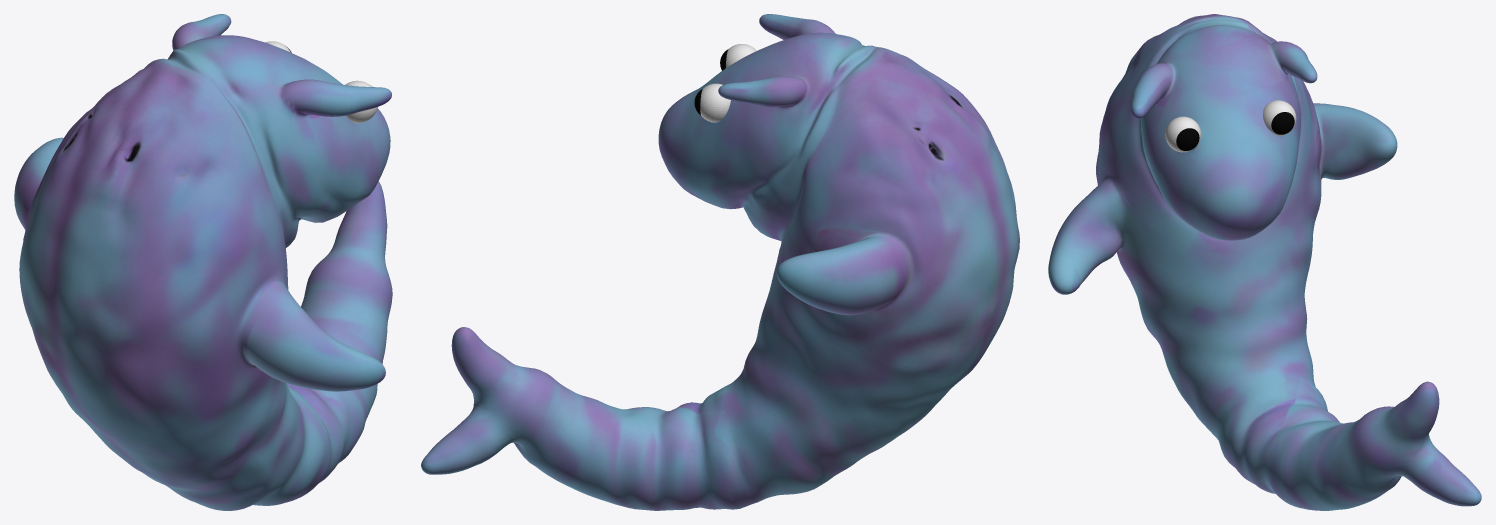
The picture shows the model from 3 angles, left to right: view 1: azimuth 30°, elevation 25°; view 2: azimuth 150°, elevation 25°; view 3: azimuth 270°, elevation 25°; orthographic projection. The views are drawn at different scales.
Visible parts, largest first — view 1: tripo_node_42414889-011f-4a66-aeec-8f0dd34586fd; view 2: tripo_node_42414889-011f-4a66-aeec-8f0dd34586fd, Sphere.001; view 3: tripo_node_42414889-011f-4a66-aeec-8f0dd34586fd, Sphere.002, Sphere.001.
Part boxes in pixels (x1,y1,x2,y2): tripo_node_42414889-011f-4a66-aeec-8f0dd34586fd: [14, 14, 392, 510]; tripo_node_42414889-011f-4a66-aeec-8f0dd34586fd: [421, 14, 1019, 510]; Sphere.001: [700, 83, 730, 122]; tripo_node_42414889-011f-4a66-aeec-8f0dd34586fd: [1048, 14, 1481, 510]; Sphere.002: [1165, 116, 1200, 152]; Sphere.001: [1263, 100, 1296, 135].
Size of the model in its own units: 0.943 by 0.9488 by 0.8888.
Materials: 5 (1 with a texture image).
